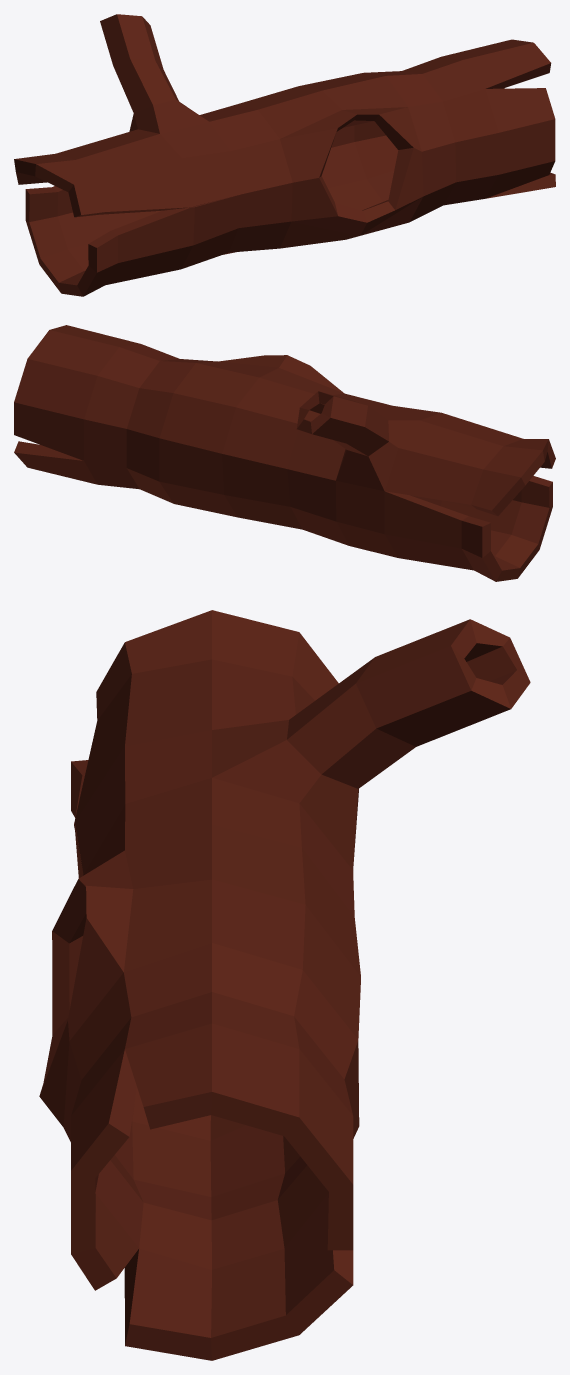
Rendered from WalkInLog.FBX.
The picture shows the model from 3 angles, top to bottom: view 1: azimuth 30°, elevation 25°; view 2: azimuth 150°, elevation 25°; view 3: azimuth 270°, elevation 25°; orthographic projection. The views are drawn at different scales.
Parts seen in each view (by area): view 1: WalkInLog; view 2: WalkInLog; view 3: WalkInLog.
Boxes of the visible parts, box(x1,y1,x2,y2) form: WalkInLog: box(14, 14, 555, 296); WalkInLog: box(14, 325, 555, 581); WalkInLog: box(39, 610, 530, 1360).
Bounding box in the file's own units: 537 × 212 × 230.
